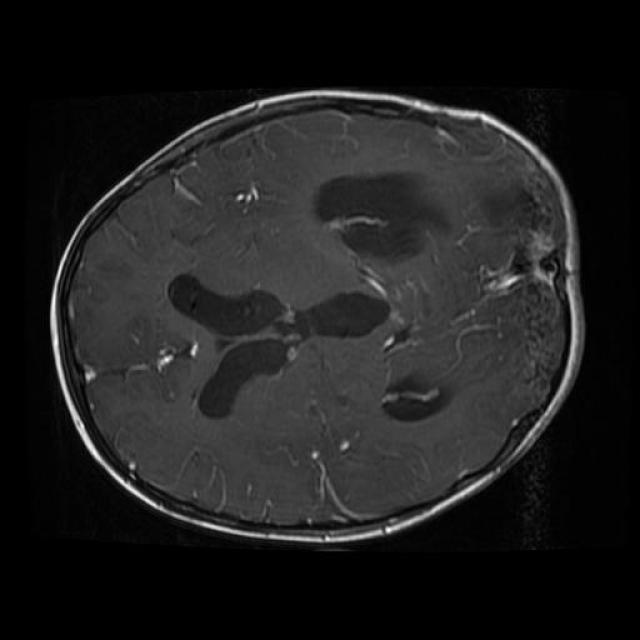Glioma: (313, 173, 454, 264)
